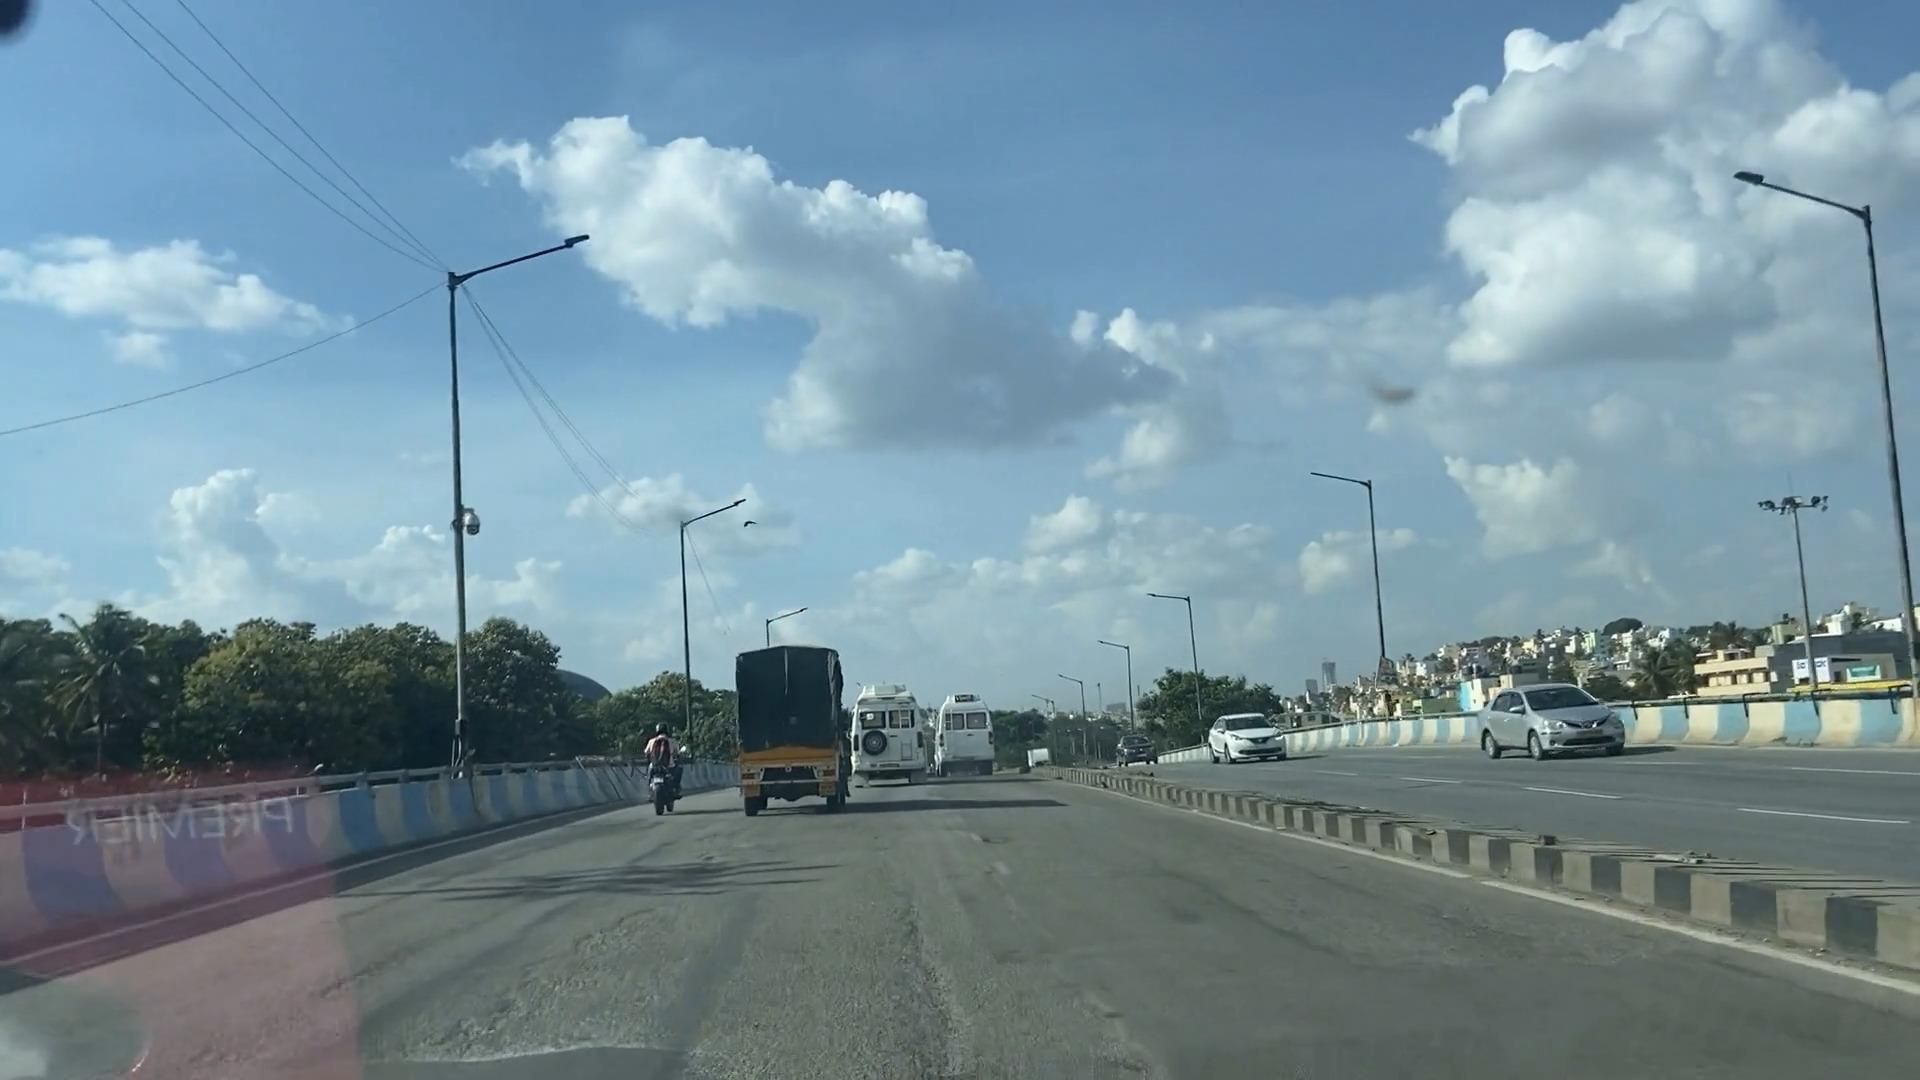HMV: (738, 630, 873, 806), (851, 684, 926, 806), (924, 691, 990, 787)
LMV: (649, 712, 678, 811)
RoadDamages: (480, 870, 1226, 1080)
